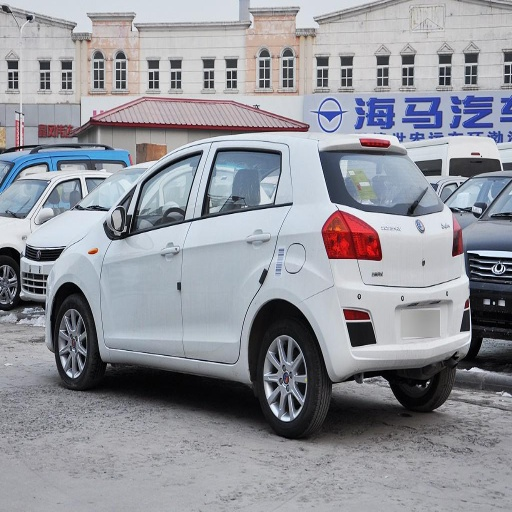back_bumper: (307, 279, 472, 378)
back_glass: (321, 150, 439, 214)
back_left_door: (183, 140, 289, 359)
front_glass: (7, 165, 112, 217)
trunk: (353, 214, 458, 311)
